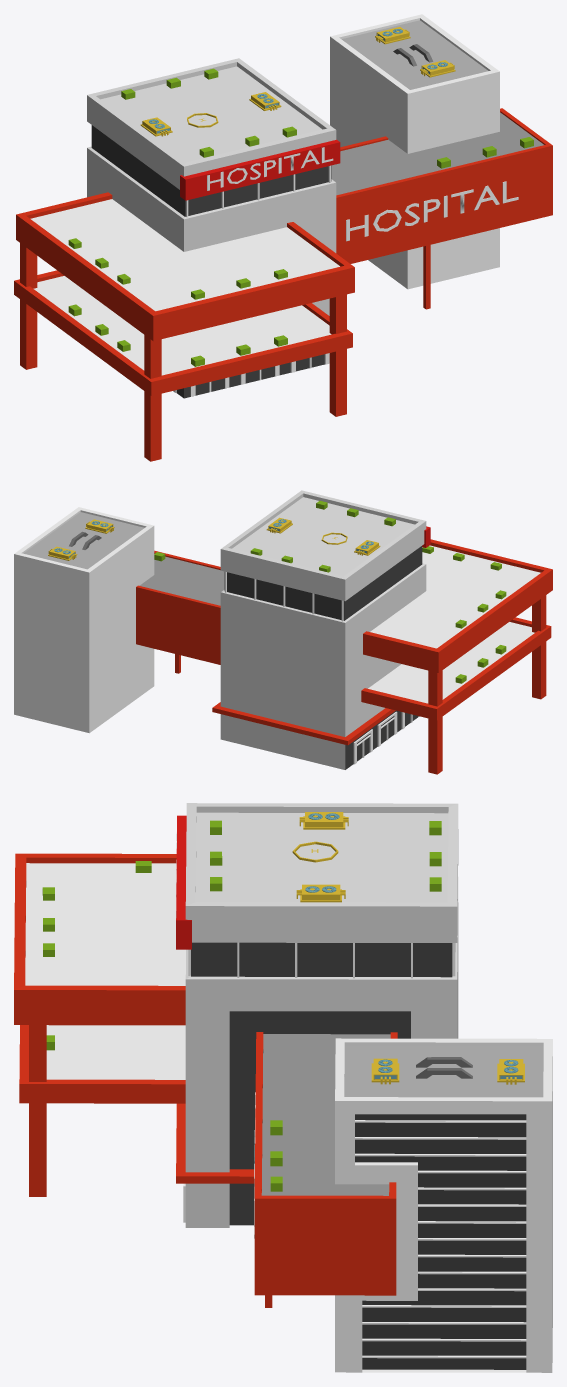
The model's file is hospital.glb.
3 views of the same model, one above another, from view 1: azimuth 30°, elevation 25°; view 2: azimuth 150°, elevation 25°; view 3: azimuth 270°, elevation 25° (orthographic). The views are drawn at different scales.
Visible parts, largest first — view 1: Cube.262; view 2: Cube.262; view 3: Cube.262.
Part boxes in pixels (bbox=[...]): Cube.262: bbox=[14, 14, 552, 461]; Cube.262: bbox=[14, 490, 552, 774]; Cube.262: bbox=[14, 803, 552, 1372].
Size of the model in its own units: 820 by 376 by 567.
